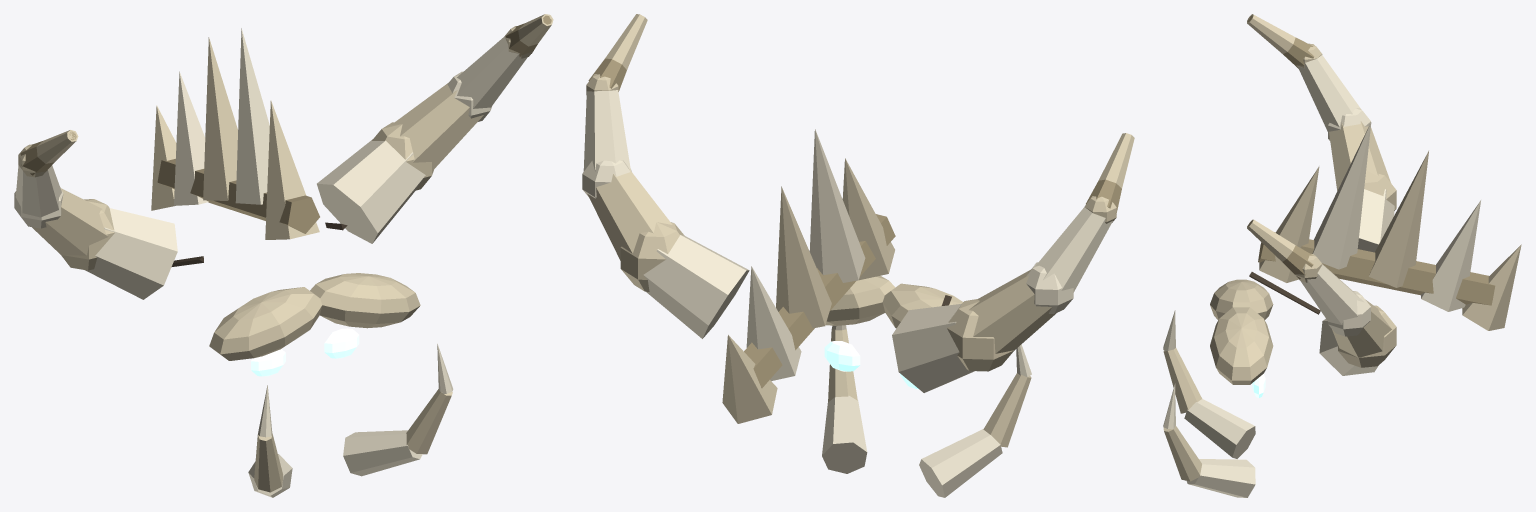
File: bone_giant_head.glb
3 views of the same model, side by side, from view 1: azimuth 30°, elevation 25°; view 2: azimuth 150°, elevation 25°; view 3: azimuth 270°, elevation 25° (orthographic). The views are drawn at different scales.
Parts seen in each view (by area): view 1: bone_giant_head; view 2: bone_giant_head; view 3: bone_giant_head.
Boxes of the visible parts, x1,y1,x2,y2 form: bone_giant_head: (14,14,553,497); bone_giant_head: (582,14,1134,497); bone_giant_head: (1163,14,1521,497).
Bounding box in the file's own units: 1.82 × 1.38 × 1.24.
